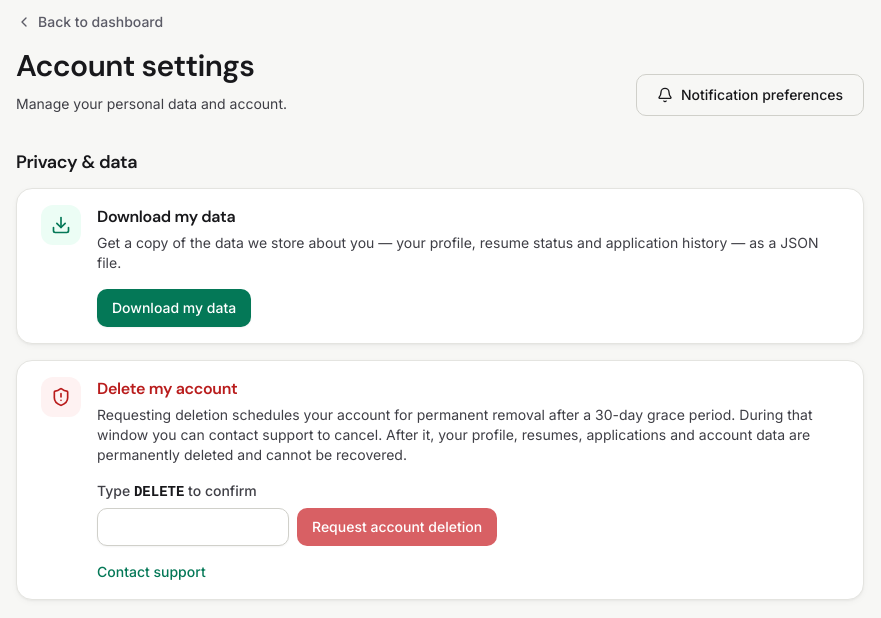
Scenario: CandidateSettingsPage › downloads the data export as a JSON file
Click the button "Download my data" at (174, 308), box [97,289,251,327]
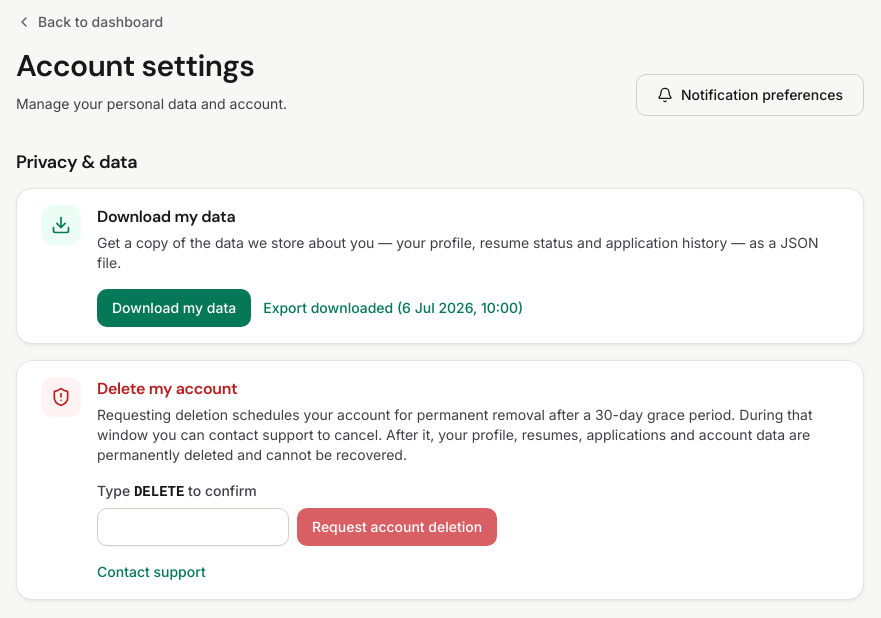
Now the text "Export downloaded (6 Jul 2026, 10:00)" is shown, box [263,298,523,318]
